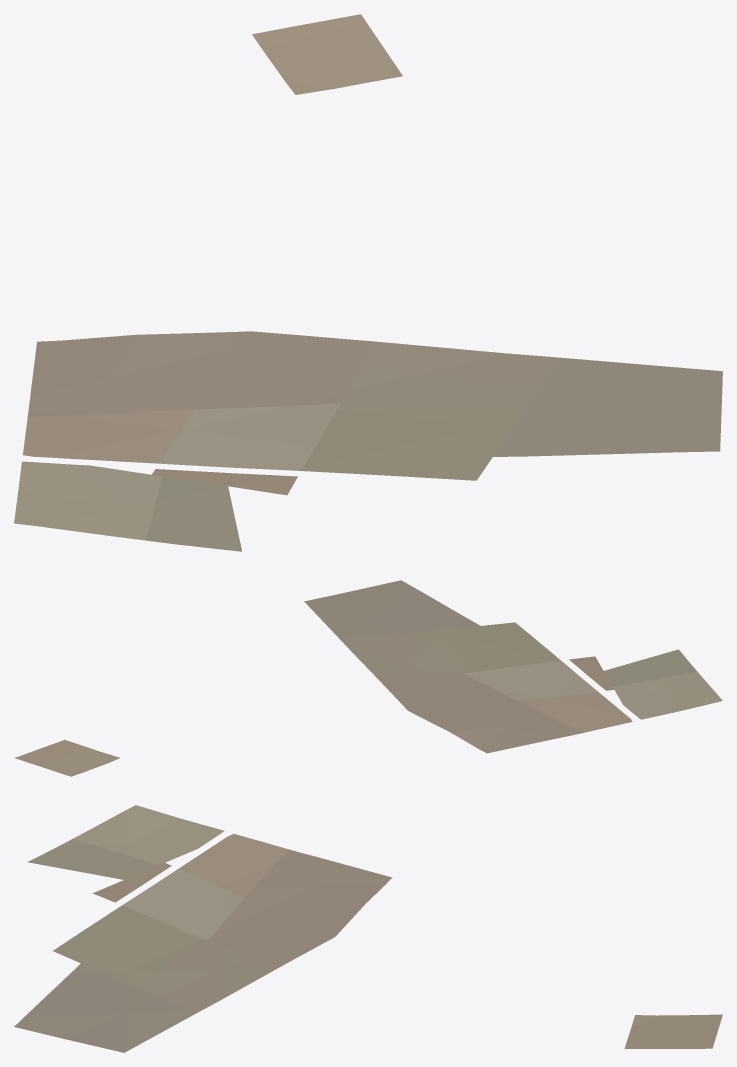
File: farm_9_5_soil.glb
3 renders of one model, top to bottom at view 1: azimuth 30°, elevation 25°; view 2: azimuth 150°, elevation 25°; view 3: azimuth 270°, elevation 25°, orthographic. The views are drawn at different scales.
Visible parts, largest first — view 1: geometry_0; view 2: geometry_0; view 3: geometry_0.
Boxes of the visible parts, box(x1,y1,x2,y2) form: geometry_0: box(14, 14, 722, 551); geometry_0: box(14, 580, 722, 776); geometry_0: box(14, 805, 722, 1052).
Size of the model in its own units: 508 by 23.93 by 588.
